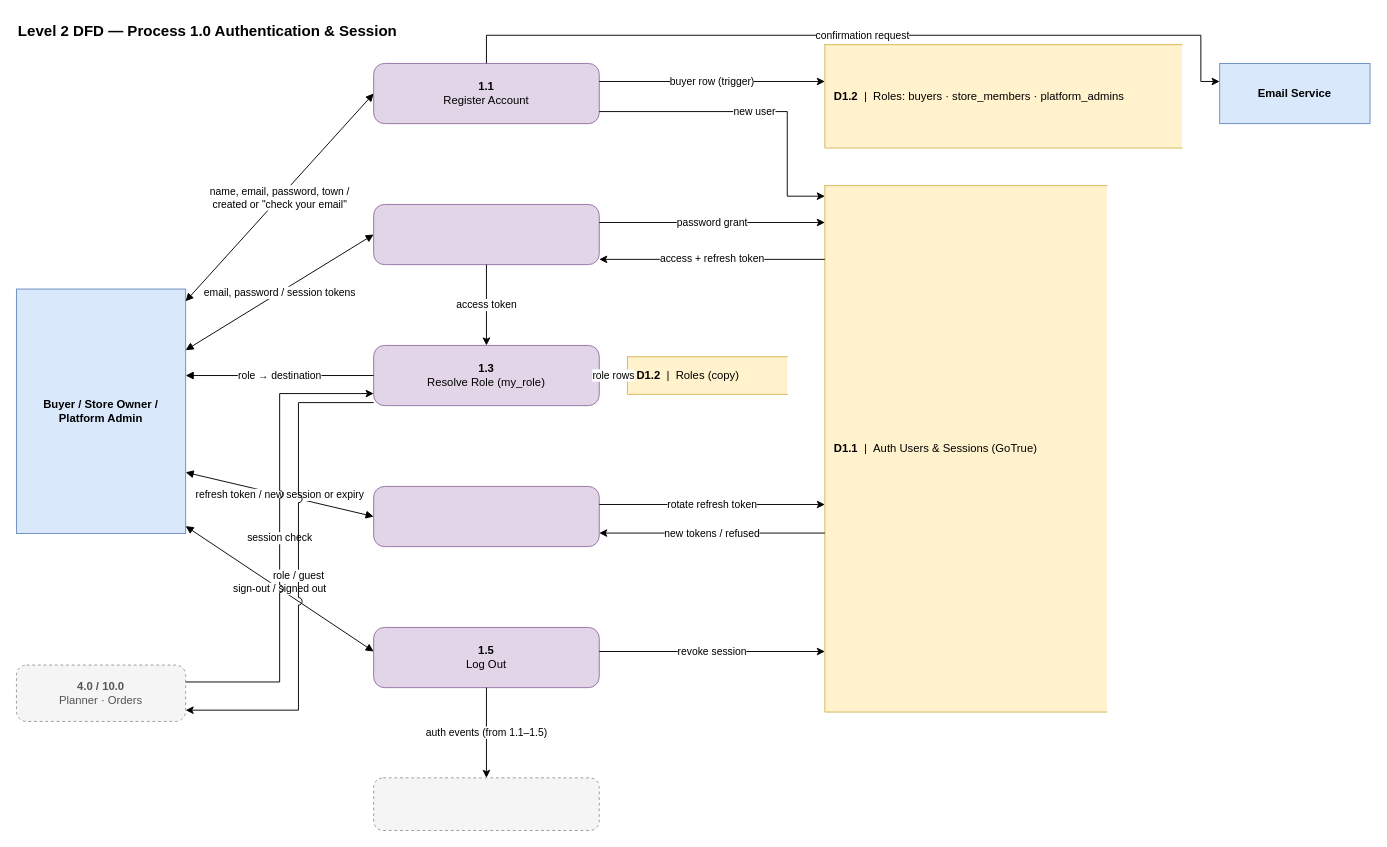
Image size: 1387x847. Some labels were removed from this diagram. The box of each missing label's shape, as (x1, y1, x2, y2) in pixels:
1.2 Log In: (373, 204, 599, 265)
1.4 Renew Session: (373, 486, 599, 547)
9.0 Notifications / Alerts: (373, 777, 599, 830)
